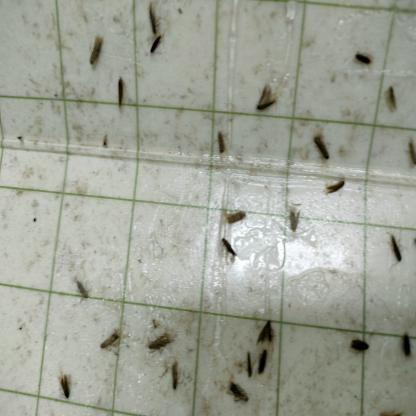prays_oleae: (374, 89, 406, 123), (388, 225, 406, 278), (256, 318, 282, 351), (53, 370, 78, 402), (311, 132, 333, 168), (255, 87, 280, 118), (349, 329, 371, 362), (84, 34, 104, 70), (224, 202, 251, 228), (146, 327, 176, 350), (148, 34, 171, 63), (73, 276, 92, 311), (144, 4, 166, 33), (168, 355, 183, 397), (226, 373, 247, 402), (258, 349, 275, 382), (321, 177, 345, 200), (404, 133, 416, 176), (243, 343, 255, 386), (111, 73, 126, 107), (286, 208, 301, 242), (354, 46, 373, 72), (216, 122, 229, 158), (398, 324, 412, 357), (94, 332, 122, 348), (216, 235, 236, 256)
